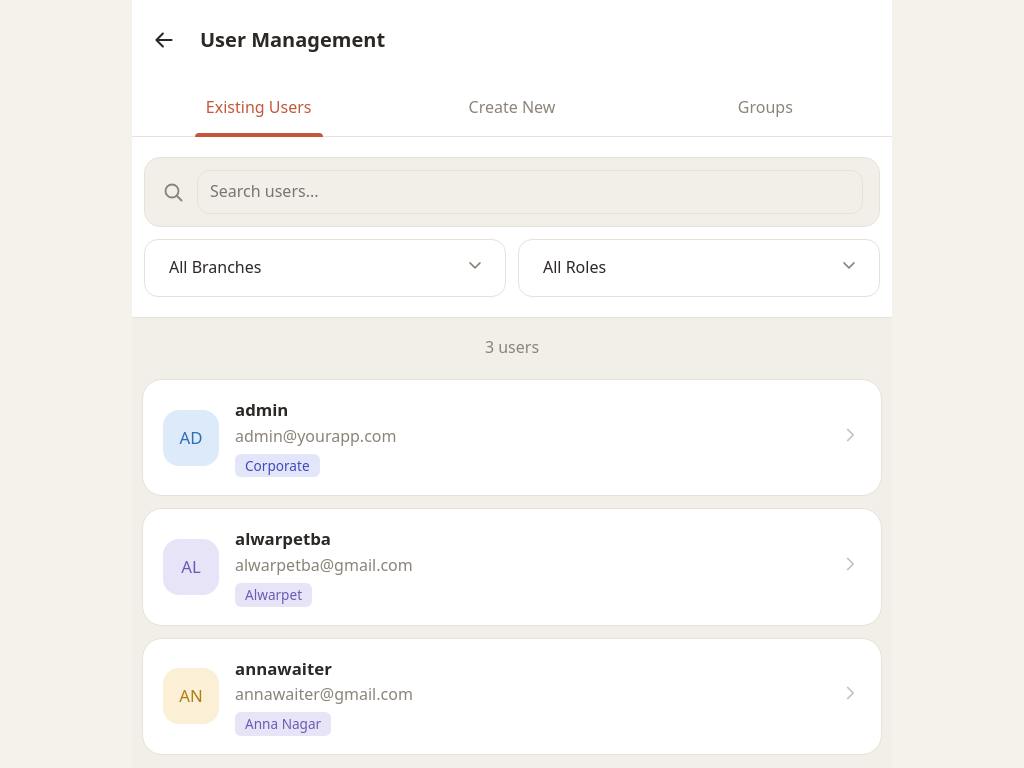
Test: User Management — Groups › creates a group once it has a name and a member
Click the tab "Groups" at (765, 110), box [639,84,892,136]
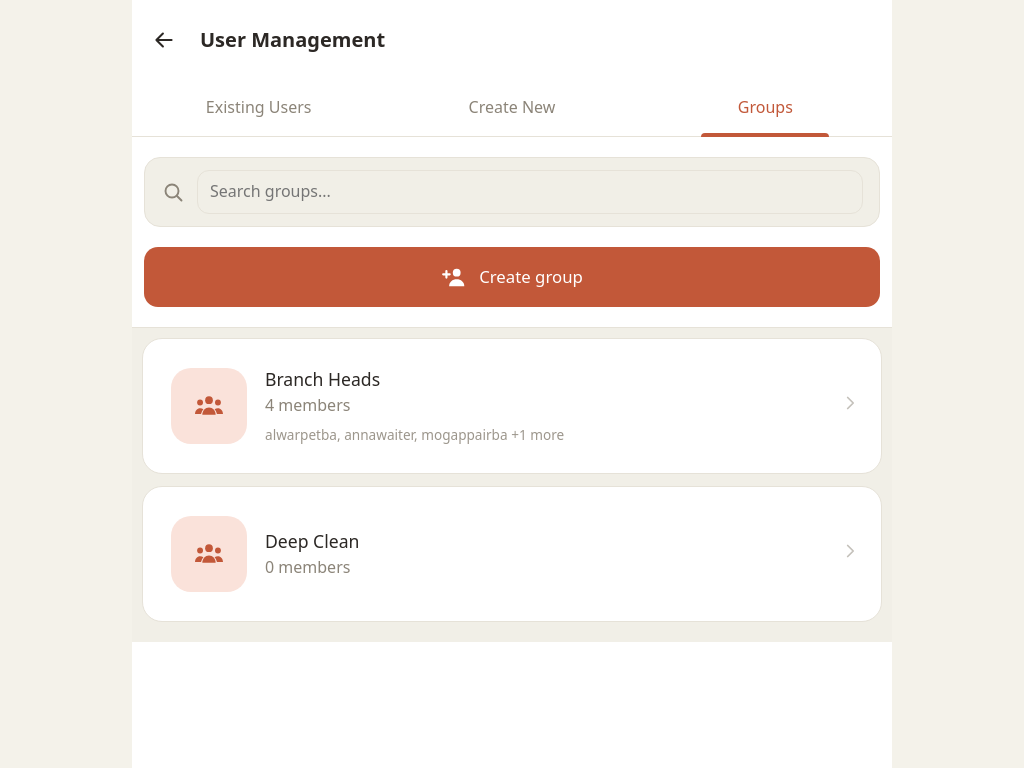
Click the button "Create group" at (512, 277), box [144,247,880,307]
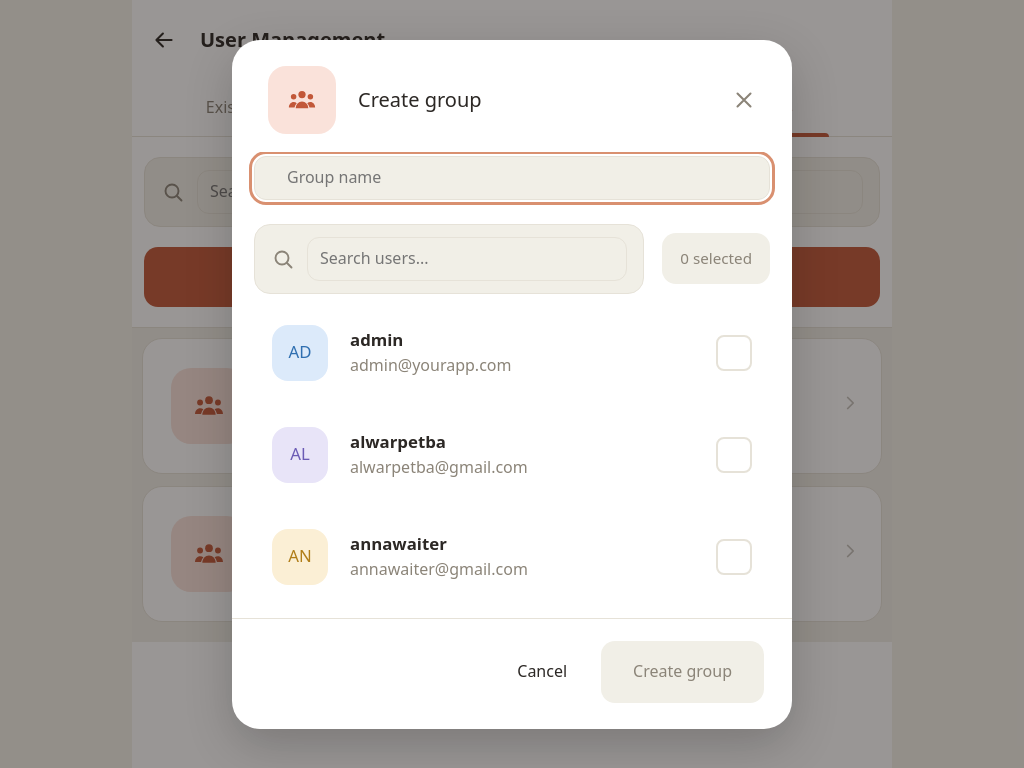
expect the 2nd button "Create group" is disabled: met, box [601,640,764,702]
expect the text "0 selected" is shown: met, box [662,234,770,284]
Type " Kitchen " into the field labelled "Group name" at (512, 178), box [254,156,770,200]
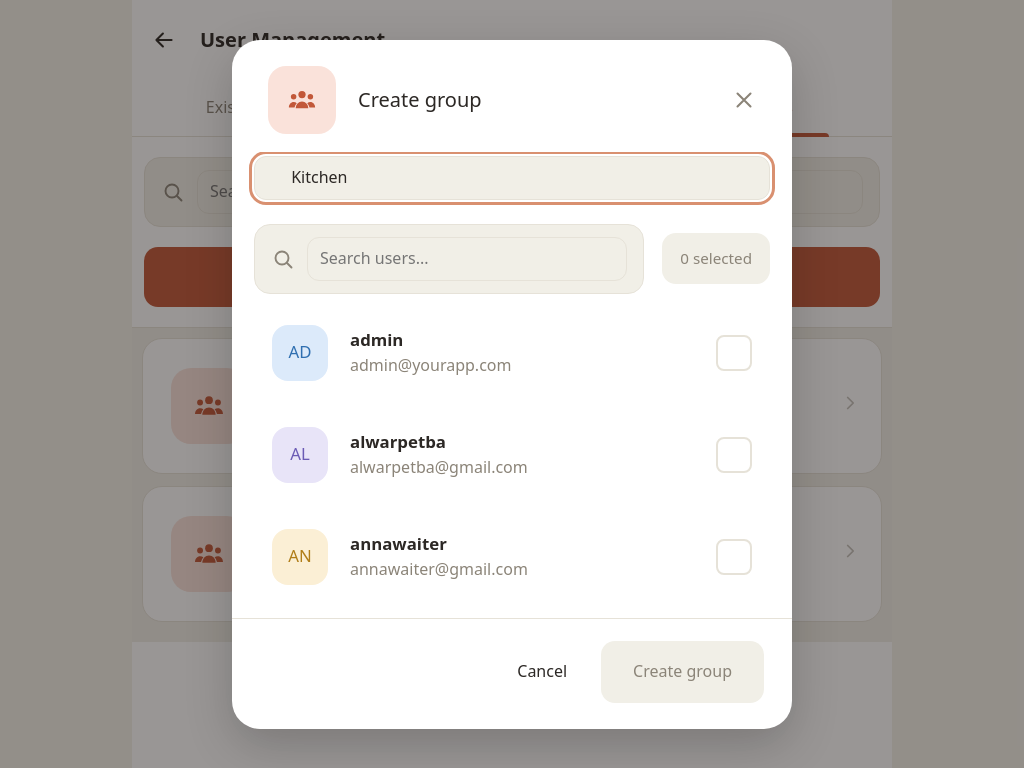
Click the checkbox labelled "AN annawaiter annawaiter@gmail.com" at (512, 556), box [254,508,770,606]
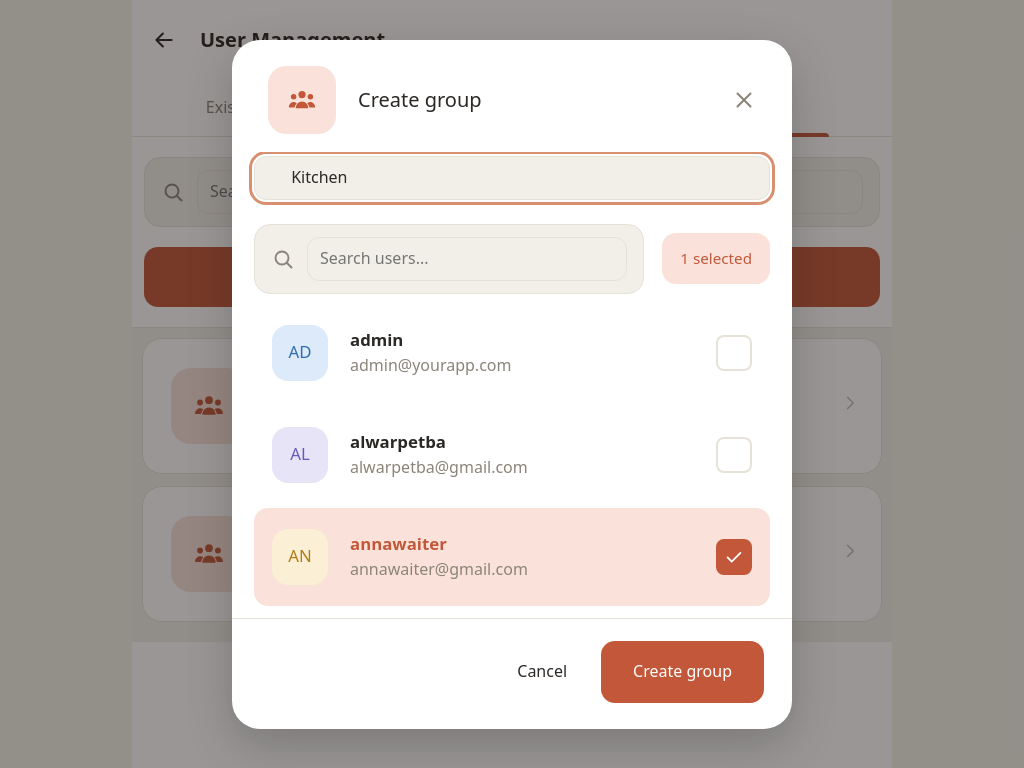
expect the text "1 selected" is shown: met, box [662,234,770,284]
Click the 2nd button "Create group" at (683, 672), box [601,640,764,702]
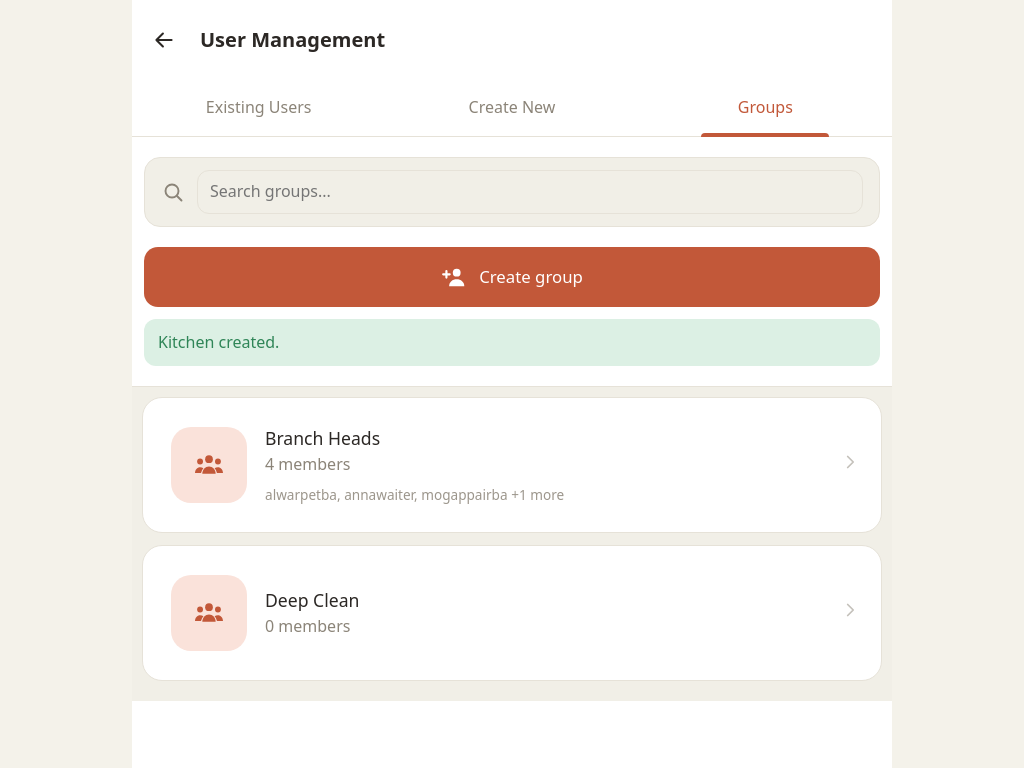
expect the dialog is gone: met
expect the text "Kitchen created." is shown: met, box [144,319,880,366]
